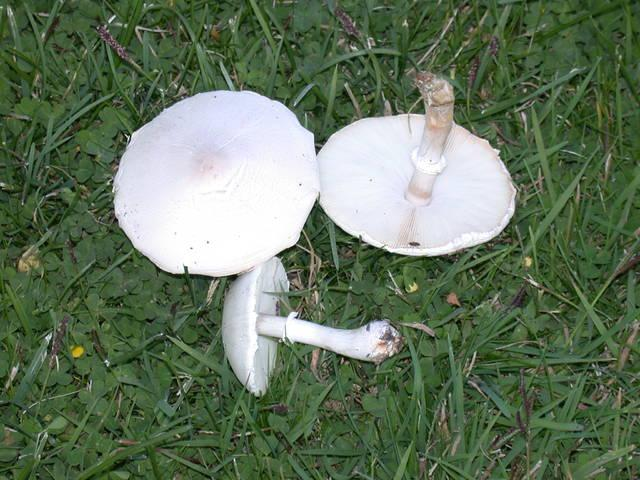poisonous_mushroom: (110, 88, 406, 397), (316, 70, 517, 257)
